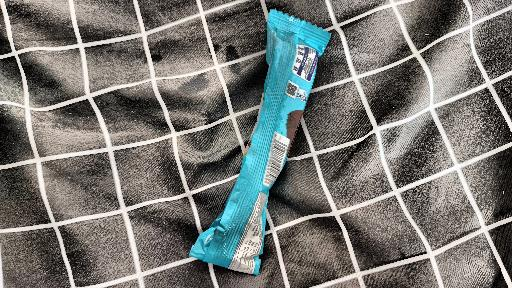dilan: (199, 2, 305, 284)
